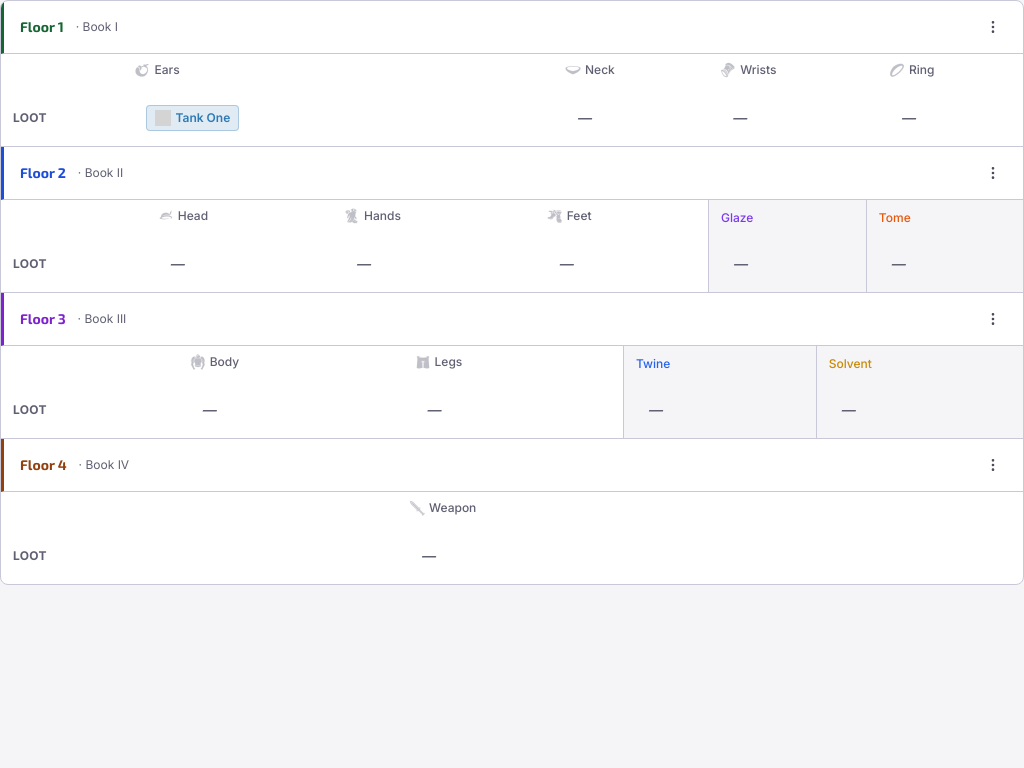
it: D6 modifier layer › right-click opens the menu with Edit/Copy link/Jump/Delete
Right-click the button with aria-label "Ears" at x=193, y=118, box [134,98,477,138]
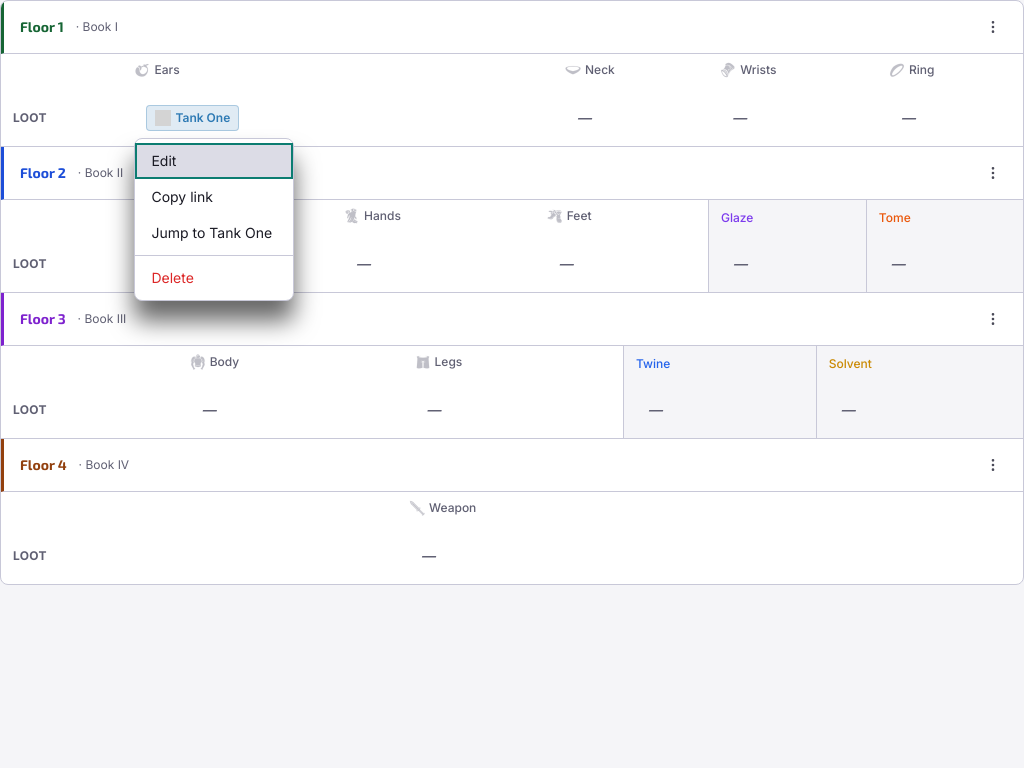
Check: the menu item "Edit" is shown, box [136,143,294,179]
Check: the menu item "Copy link" is shown, box [136,179,294,215]
Check: the menu item "Delete" is shown, box [136,260,294,296]
